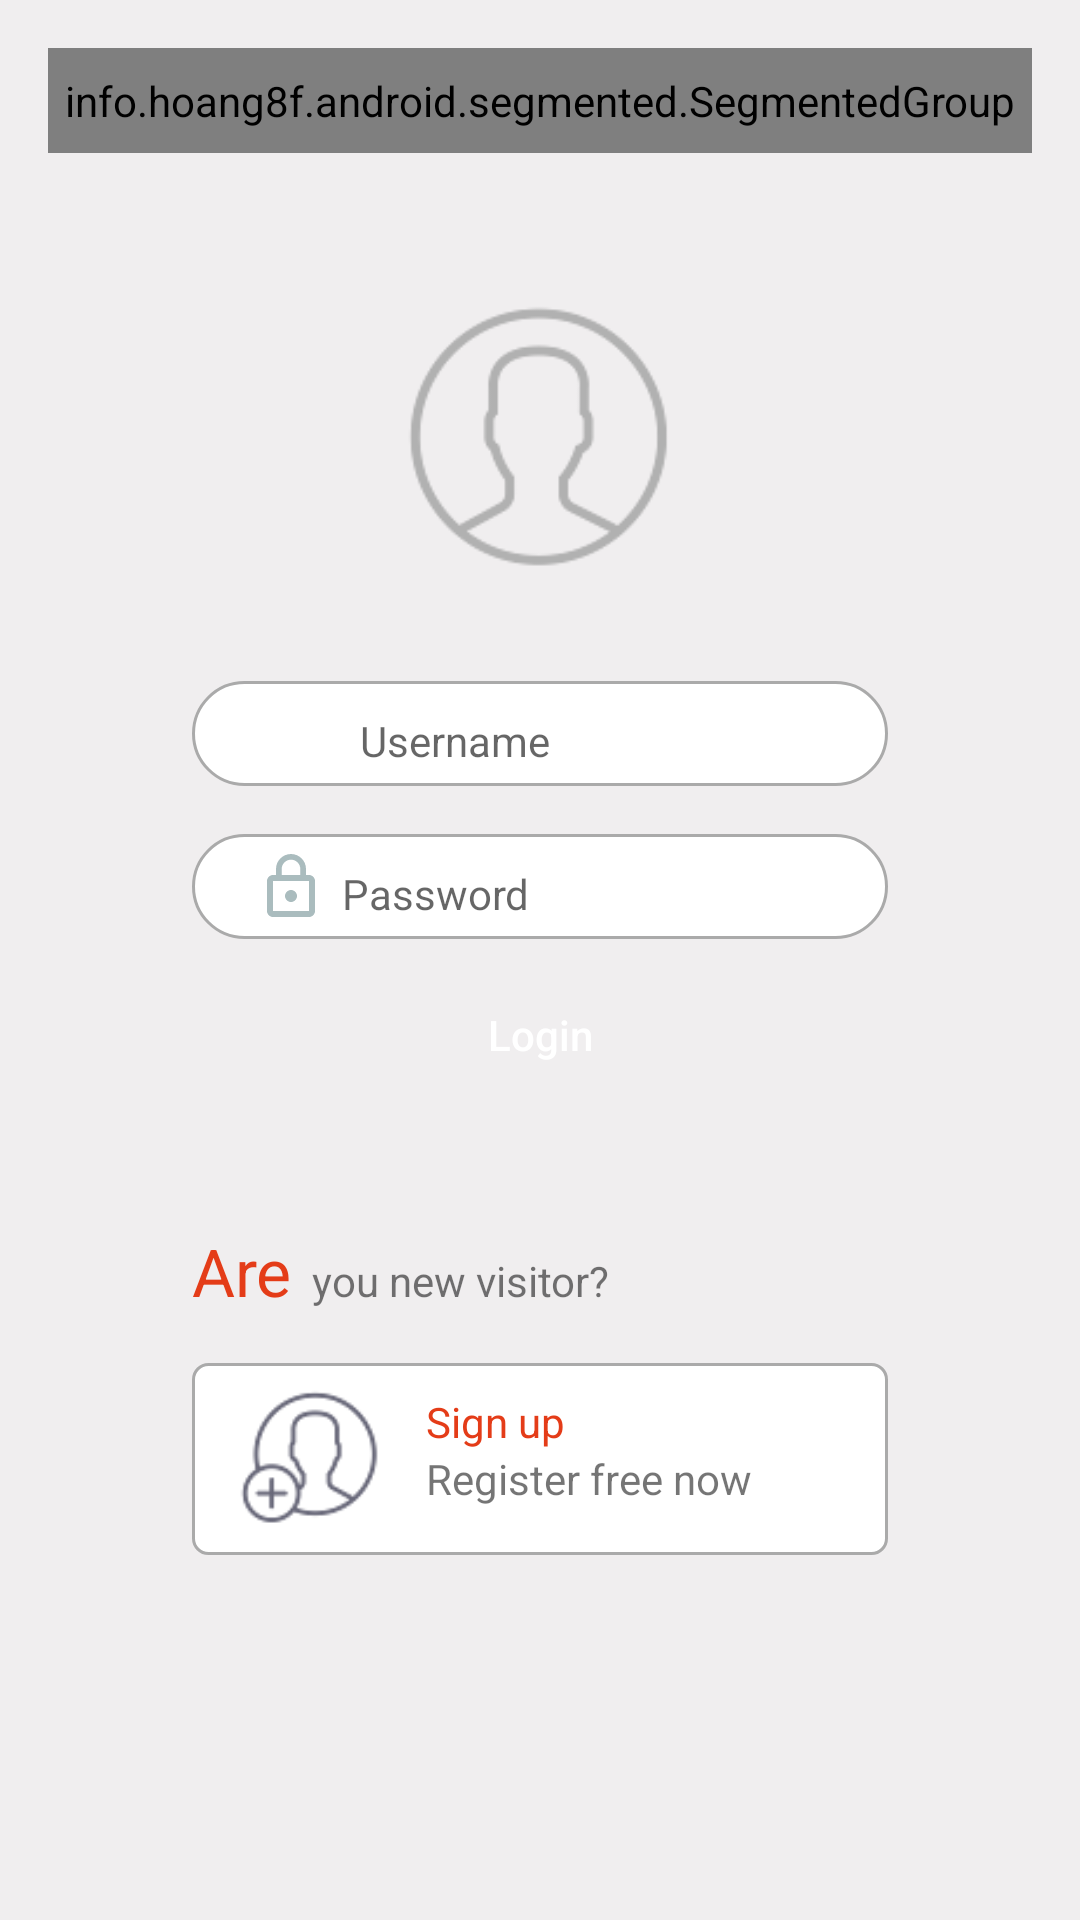

Named icons in this screenshot (1080px x 1920px) and their bounding boxes, box=[x1, y1, x2, y2]:
lock: box=[240, 834, 342, 939]
